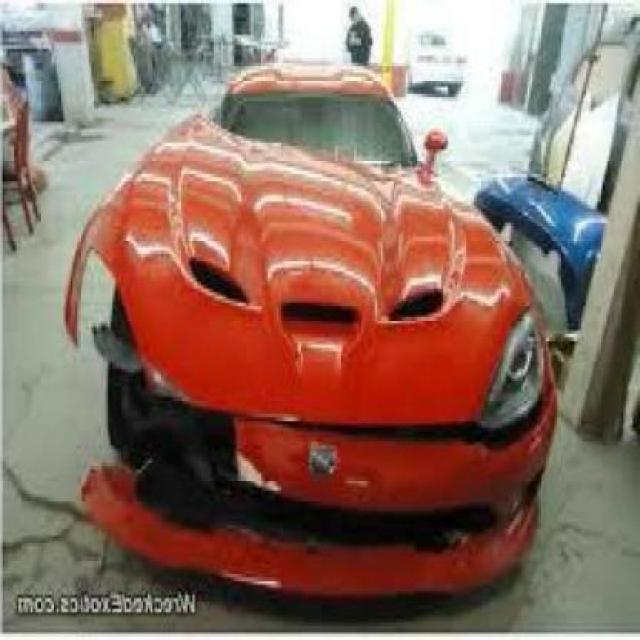damage: (57, 113, 503, 597)
